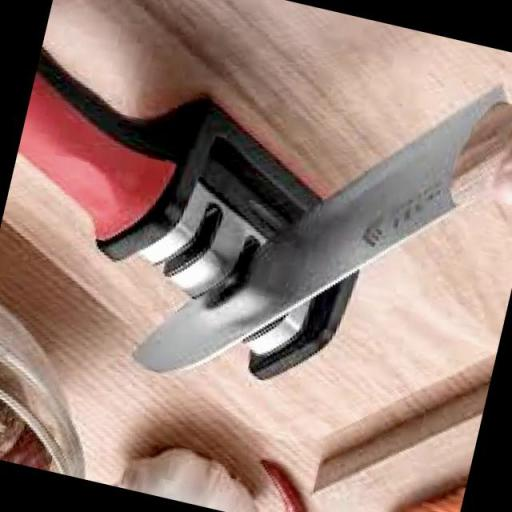knife: (118, 0, 512, 480)
